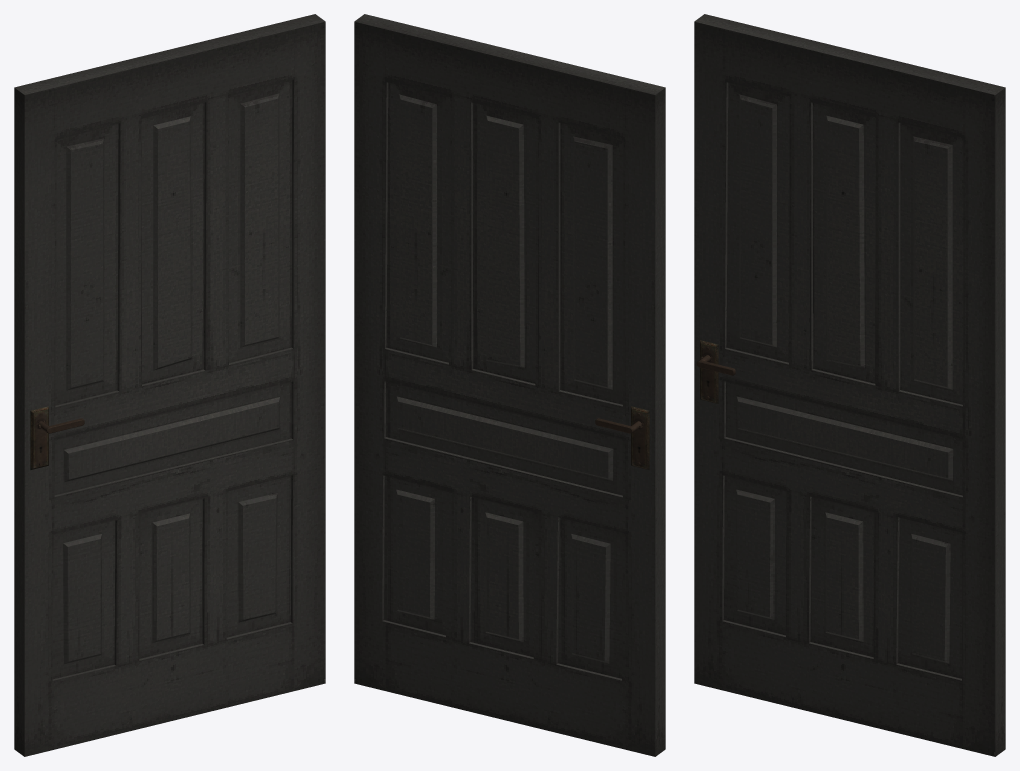
The model's file is door_1_loose.glb.
3 renders of one model, left to right at view 1: azimuth 30°, elevation 25°; view 2: azimuth 150°, elevation 25°; view 3: azimuth 330°, elevation 25°, orthographic.
Parts seen in each view (by area): view 1: door_1_loose; view 2: door_1_loose; view 3: door_1_loose.
Part boxes in pixels (x1,y1,x2,y2): door_1_loose: (14,14,325,756); door_1_loose: (354,14,665,756); door_1_loose: (694,14,1005,756).
Bounding box in the file's own units: 1 × 2.1 × 0.178.
2 materials, 2 textured.
